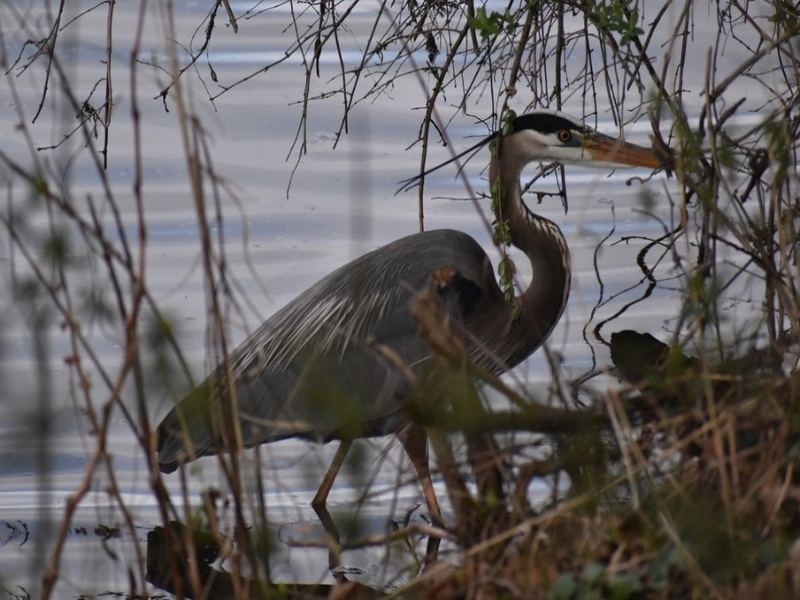heron: (152, 114, 702, 508)
